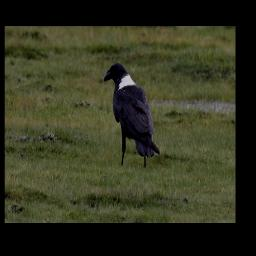Crow: (104, 62, 160, 166)
